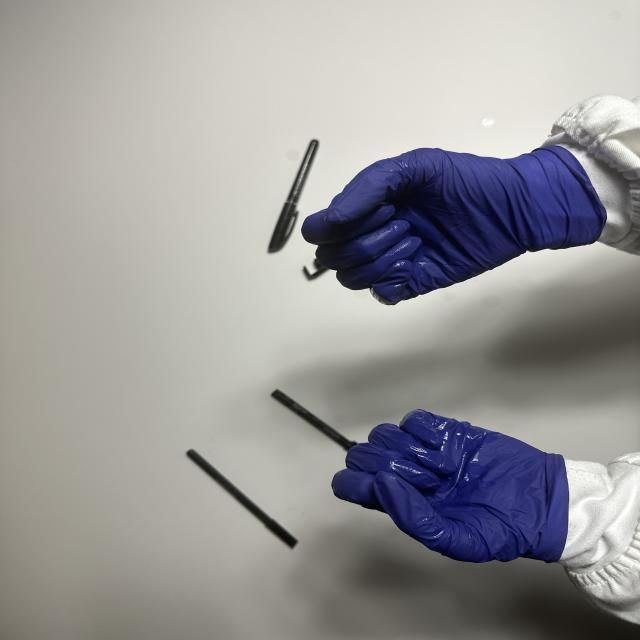gloves_contaminated: (303, 149, 605, 304), (333, 410, 569, 562)
